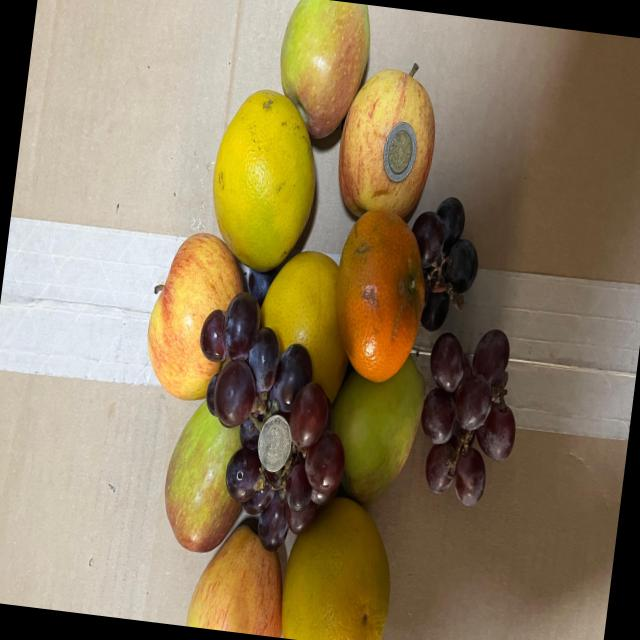moneda: (250, 402, 302, 486), (378, 122, 421, 182)
